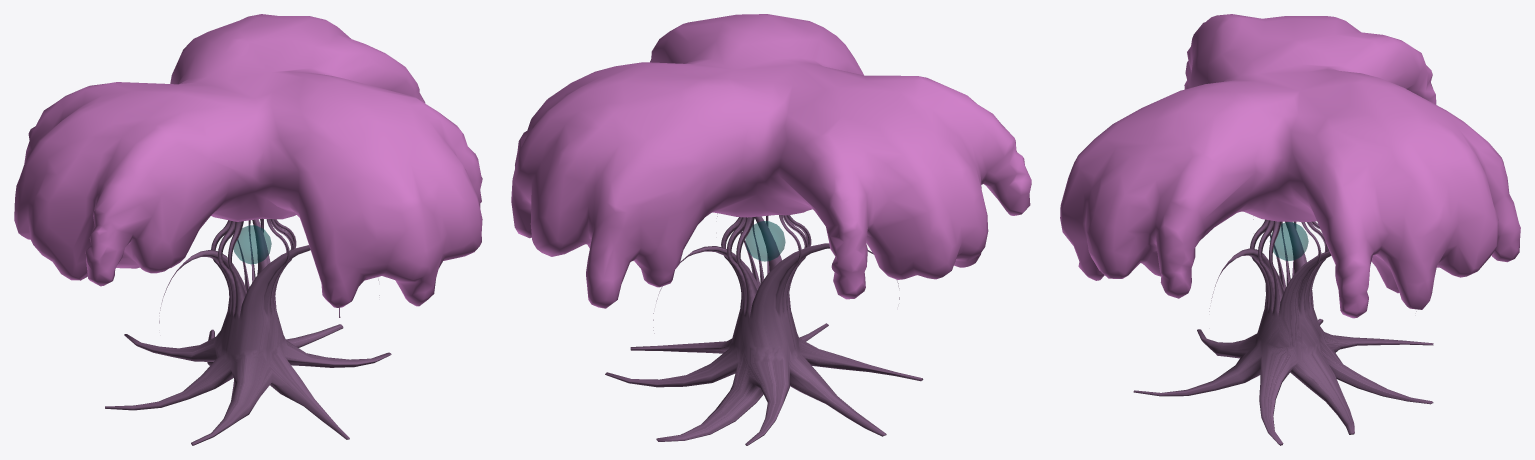
File: MagicalTreeLow.fbx
3 views of the same model, side by side, from view 1: azimuth 30°, elevation 25°; view 2: azimuth 150°, elevation 25°; view 3: azimuth 270°, elevation 25° (orthographic). The views are drawn at different scales.
Parts seen in each view (by area): view 1: Low_Leaf_M, Tree_1, Magical_Sphere_1; view 2: Low_Leaf_M, Tree_1, Magical_Sphere_1; view 3: Low_Leaf_M, Tree_1, Magical_Sphere_1.
Part boxes in pixels (x1,y1,x2,y2): Low_Leaf_M: [14, 14, 482, 307]; Tree_1: [105, 218, 391, 445]; Magical_Sphere_1: [233, 225, 271, 264]; Low_Leaf_M: [511, 14, 1031, 308]; Tree_1: [605, 215, 923, 445]; Magical_Sphere_1: [745, 221, 785, 261]; Low_Leaf_M: [1060, 14, 1520, 318]; Tree_1: [1133, 219, 1433, 445]; Magical_Sphere_1: [1269, 222, 1308, 260].
Size of the model in its own units: 1530 by 1124 by 1451.
3 materials, 1 textured.
